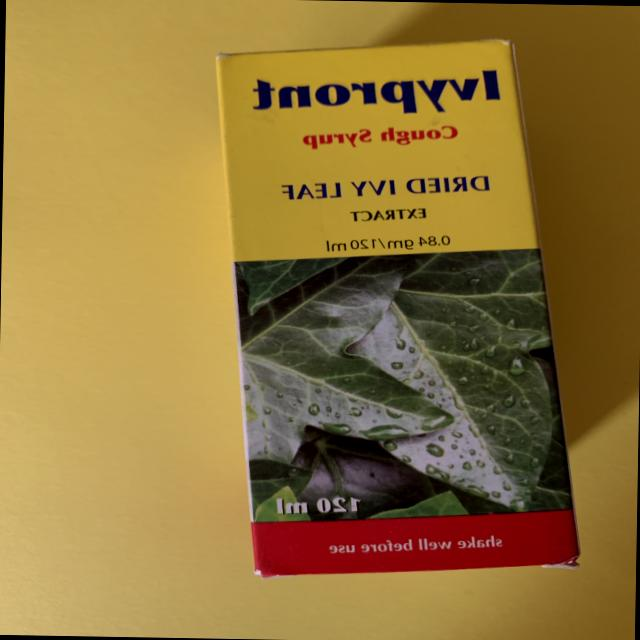medicine_packaging: (202, 27, 604, 600)
